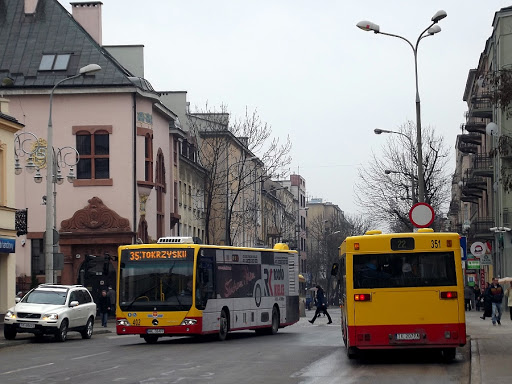no_entry_sign: (408, 203, 434, 226)
